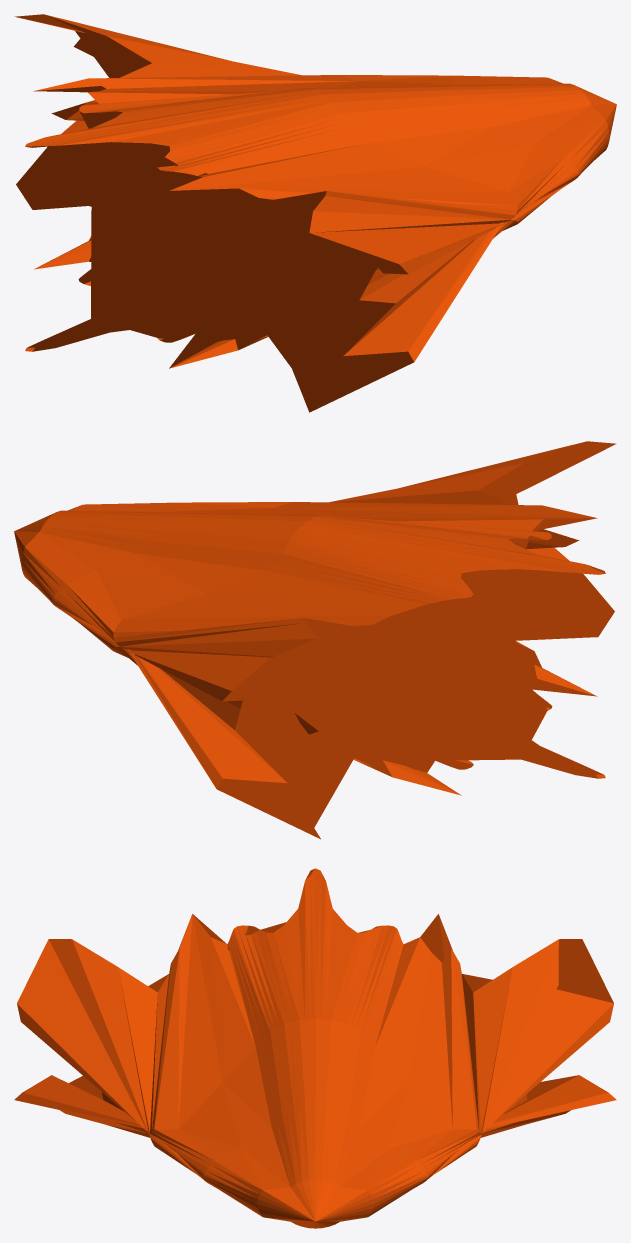
Rendered from fire.glb.
3 views of the same model, one above another, from view 1: azimuth 30°, elevation 25°; view 2: azimuth 150°, elevation 25°; view 3: azimuth 270°, elevation 25° (orthographic). The views are drawn at different scales.
Parts seen in each view (by area): view 1: Cone; view 2: Cone; view 3: Cone.
Part boxes in pixels (<box>): Cone: <box>14,14,616,412</box>; Cone: <box>14,441,616,839</box>; Cone: <box>14,868,616,1228</box>.
Bounding box in the file's own units: 5.68 × 1.87 × 5.54.
